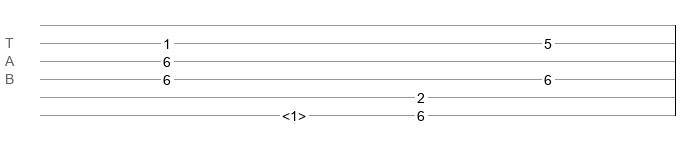1: (163, 36, 171, 46)
2: (417, 90, 425, 100)
5: (544, 36, 552, 46)
6: (163, 72, 171, 82), (163, 54, 171, 64), (417, 108, 425, 118), (544, 72, 552, 82)
harmonic: (282, 108, 306, 118)
